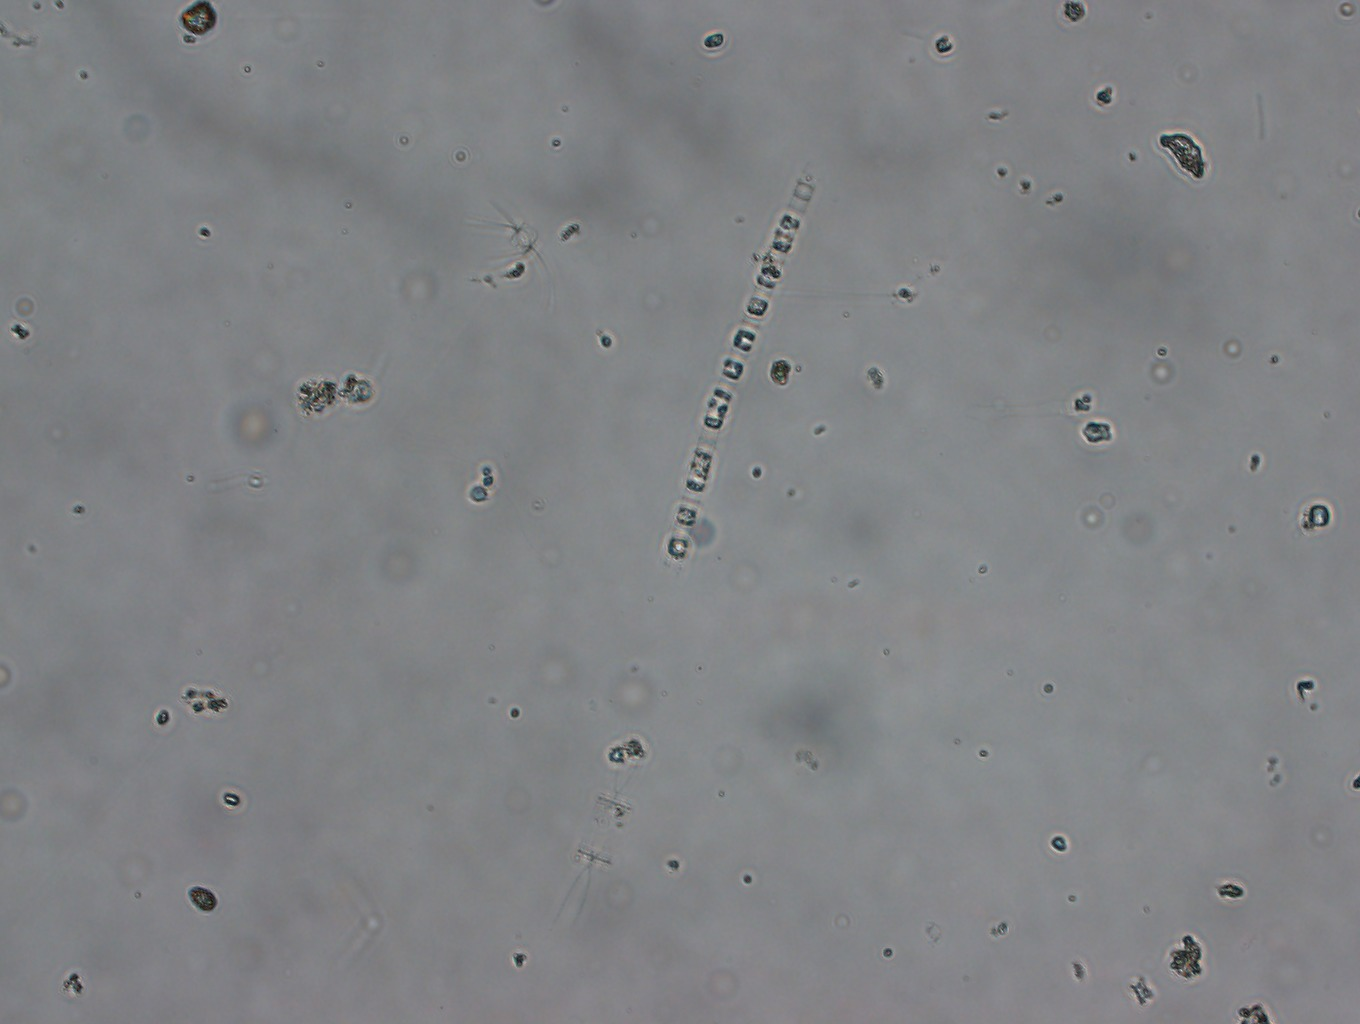skeletonema: (659, 158, 830, 561)
